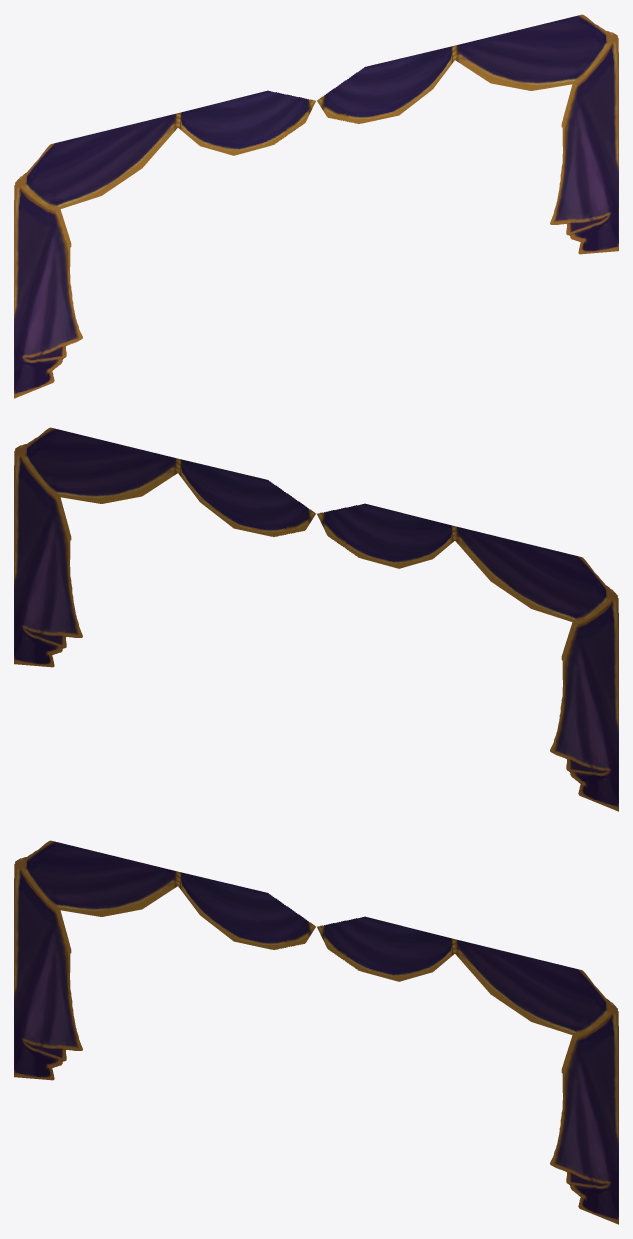
Rendered from purplecurtain_001.FBX.
3 views of the same model, one above another, from view 1: azimuth 30°, elevation 25°; view 2: azimuth 150°, elevation 25°; view 3: azimuth 330°, elevation 25° (orthographic).
Parts seen in each view (by area): view 1: purplecurtain_001; view 2: purplecurtain_001; view 3: purplecurtain_001.
Part boxes in pixels (<box>): purplecurtain_001: <box>14,14,618,398</box>; purplecurtain_001: <box>14,427,618,811</box>; purplecurtain_001: <box>14,840,618,1224</box>.
Size of the model in its own units: 2356 by 916 by 0.000149.
